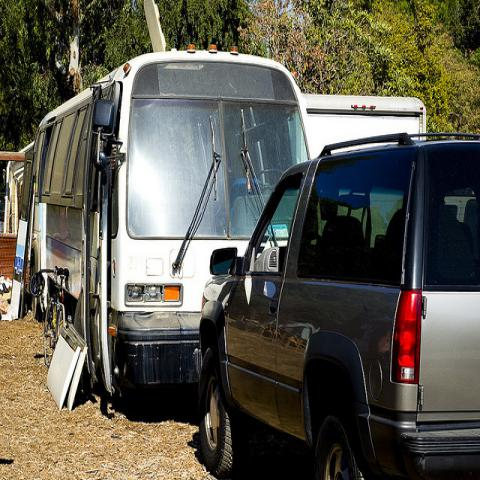bus: (22, 43, 306, 418)
truck: (194, 131, 480, 472), (302, 93, 427, 148)
